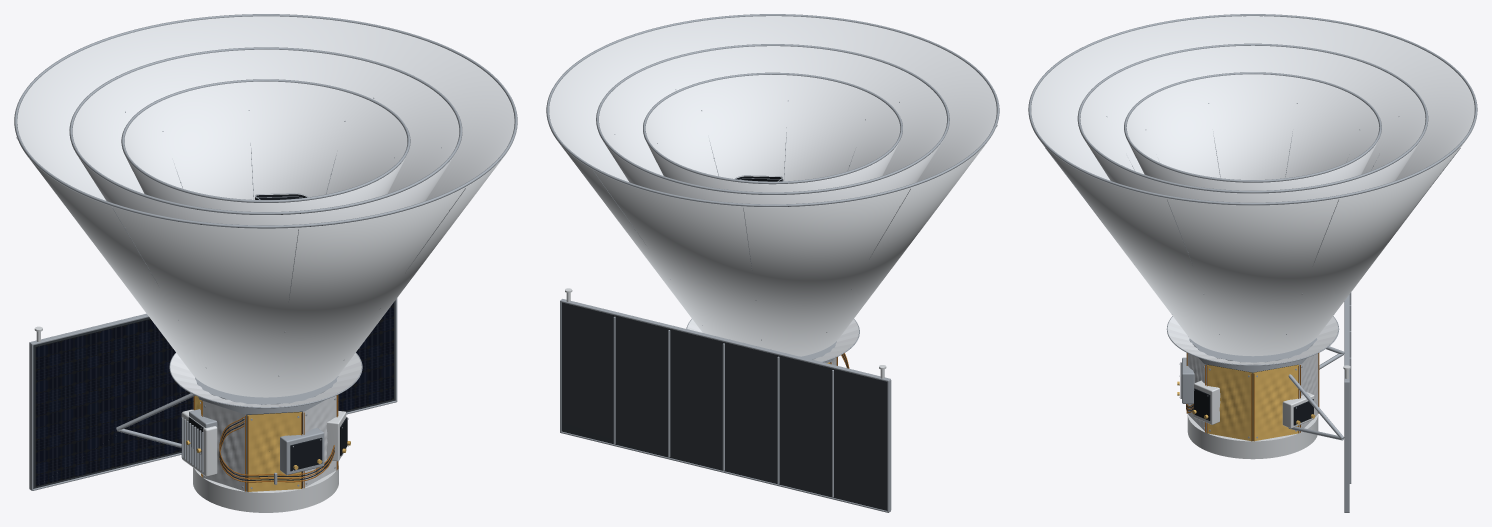
Rendered from spherex.glb.
The picture shows the model from 3 angles, left to right: view 1: azimuth 30°, elevation 25°; view 2: azimuth 150°, elevation 25°; view 3: azimuth 270°, elevation 25°; orthographic projection. The views are drawn at different scales.
Visible parts, largest first — view 1: SPHEREx | research-guided artistic interpretation; view 2: SPHEREx | research-guided artistic interpretation; view 3: SPHEREx | research-guided artistic interpretation.
Part boxes in pixels (box(x1,y1,x2,y2)): SPHEREx | research-guided artistic interpretation: box(14, 14, 517, 512); SPHEREx | research-guided artistic interpretation: box(546, 14, 999, 512); SPHEREx | research-guided artistic interpretation: box(1028, 14, 1477, 512).
Bounding box in the file's own units: 3.2 × 2.61 × 3.2.
12 materials, 1 textured.
